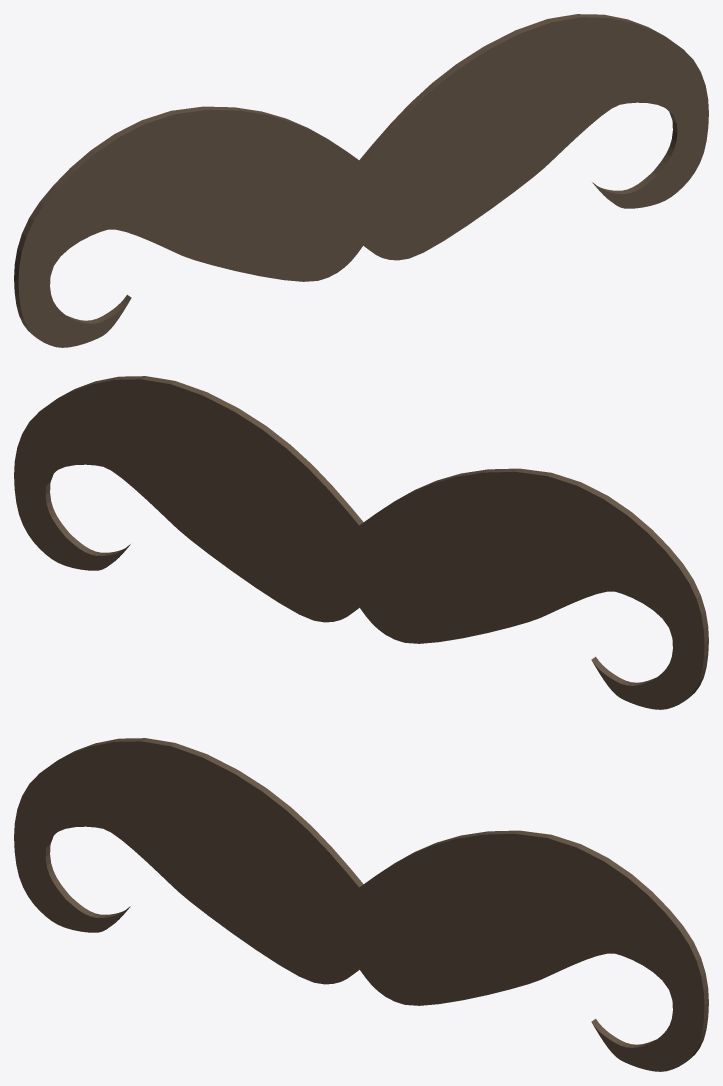
Rendered from mustache1.glb.
3 views of the same model, one above another, from view 1: azimuth 30°, elevation 25°; view 2: azimuth 150°, elevation 25°; view 3: azimuth 330°, elevation 25° (orthographic).
Visible parts, largest first — view 1: mustache1; view 2: mustache1; view 3: mustache1.
Part boxes in pixels (left/top/right/bottom): mustache1: left=14, top=14, right=708, bottom=347; mustache1: left=14, top=376, right=708, bottom=709; mustache1: left=14, top=738, right=708, bottom=1071.
Size of the model in its own units: 7 by 2.01 by 0.0789.
